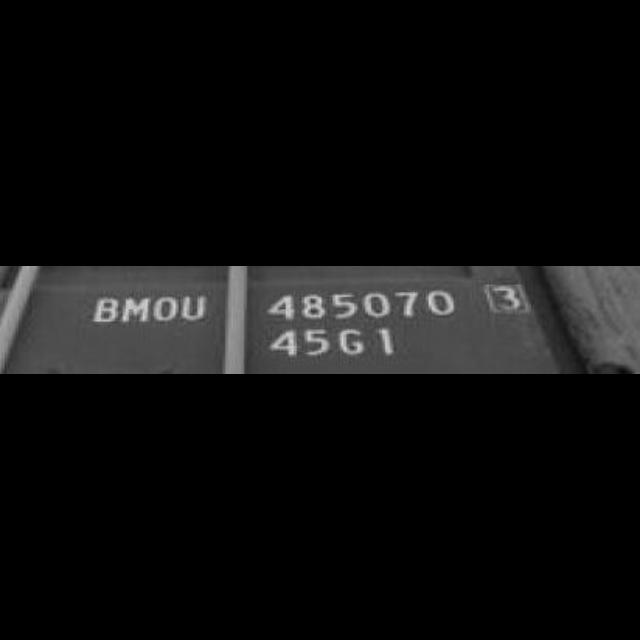0: (426, 286, 456, 320), (362, 286, 390, 320)
3: (488, 282, 524, 318)
4: (268, 328, 298, 362), (268, 290, 296, 324)
5: (332, 288, 358, 324)
7: (395, 286, 421, 322)
8: (300, 290, 328, 322)
b: (92, 294, 120, 326)
m: (122, 296, 152, 326)
o: (153, 292, 177, 322)
u: (182, 292, 208, 324)
